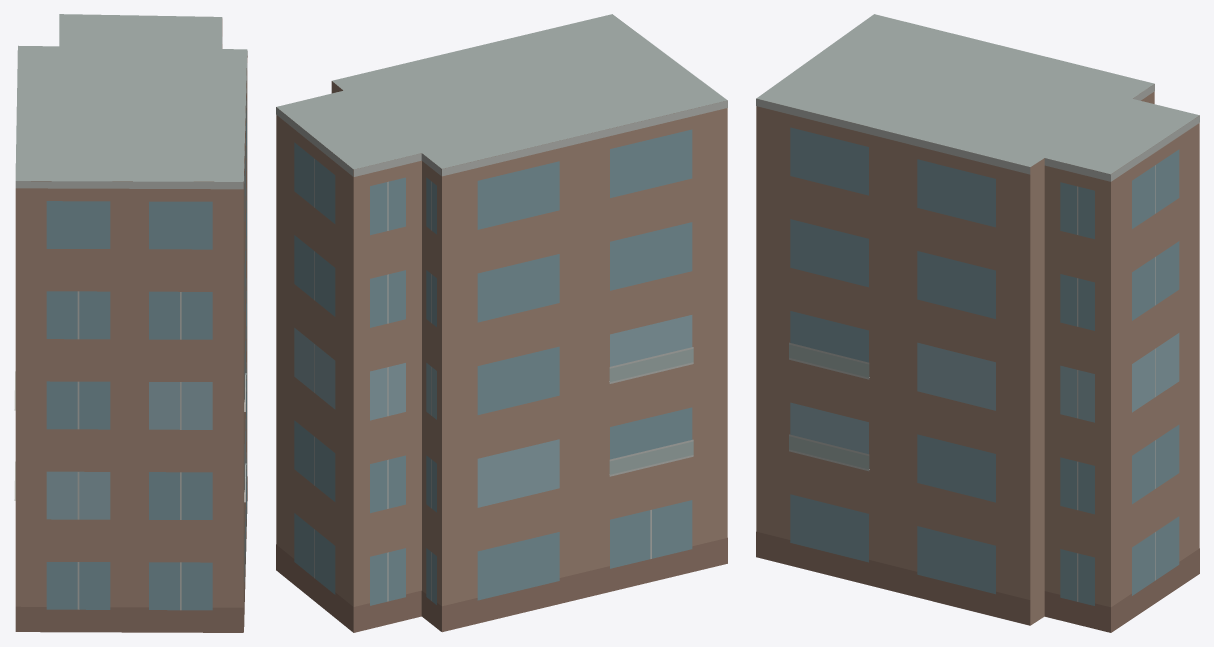
File: survey-upis-32890675.glb
3 renders of one model, left to right at view 1: azimuth 30°, elevation 25°; view 2: azimuth 150°, elevation 25°; view 3: azimuth 270°, elevation 25°, orthographic. The views are drawn at different scales.
Visible parts, largest first — view 1: survey-upis-32890675.tmp; view 2: survey-upis-32890675.tmp; view 3: survey-upis-32890675.tmp.
Part boxes in pixels (bbox=[...]): survey-upis-32890675.tmp: bbox=[14, 14, 247, 632]; survey-upis-32890675.tmp: bbox=[276, 14, 727, 632]; survey-upis-32890675.tmp: bbox=[756, 14, 1199, 632].
Size of the model in its own units: 11.18 by 14.9 by 13.07.
